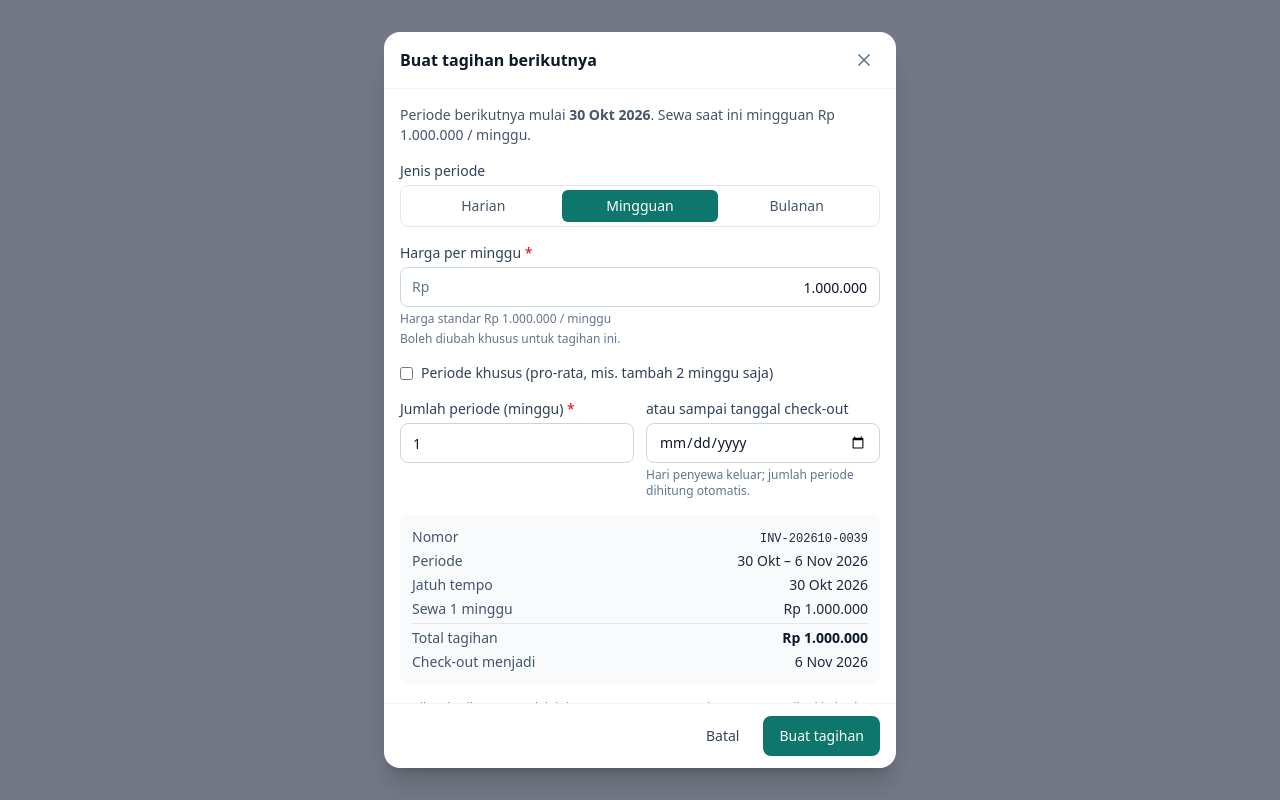
Test: Buat tagihan berikutnya: deposit when a stay switches to weekly or monthly › a weekly stay without deposit going monthly: the warning does not speak of a daily stay
Click the 2nd radio button labelled "Bulanan".
click(797, 206)  # box [718,190,875,222]
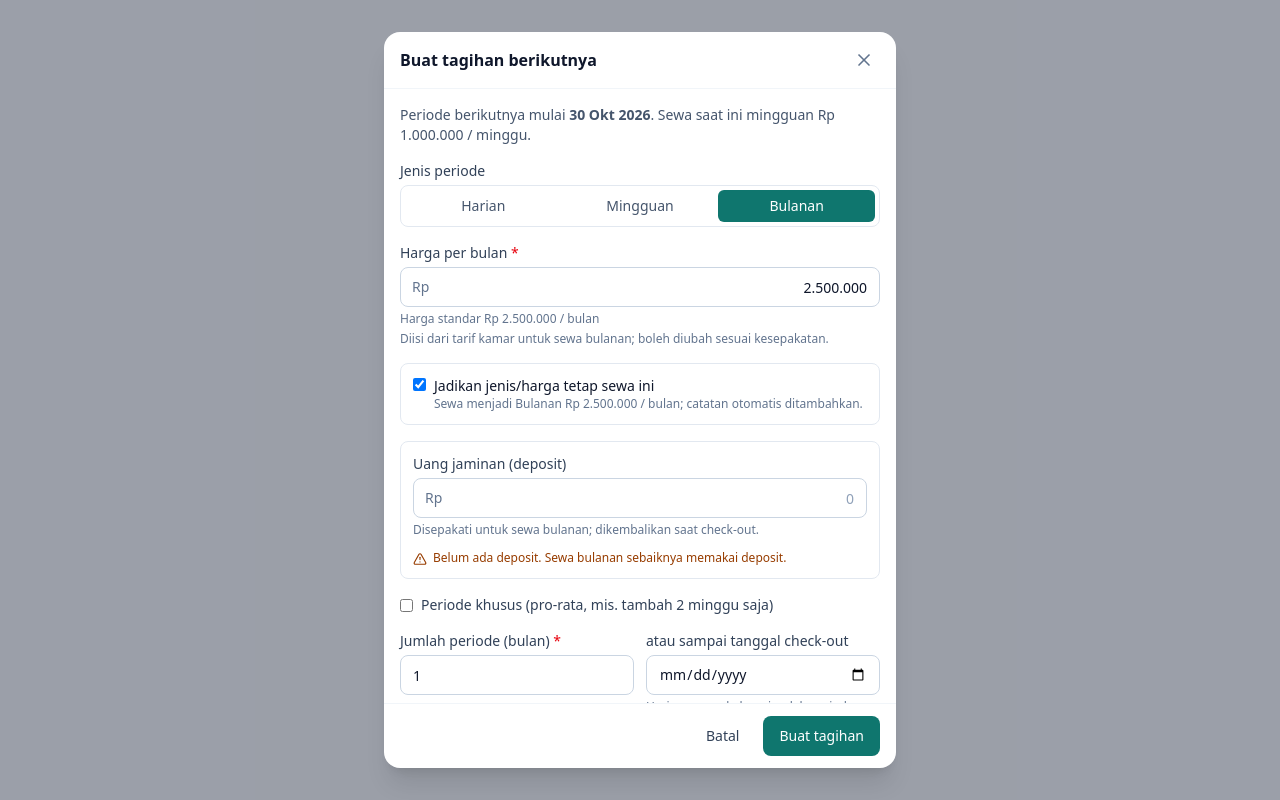
Expected: the element with test id "extension-deposit-missing" reads "Belum ada deposit. Sewa bulanan sebaiknya memakai deposit.", [413,549,786,566]
